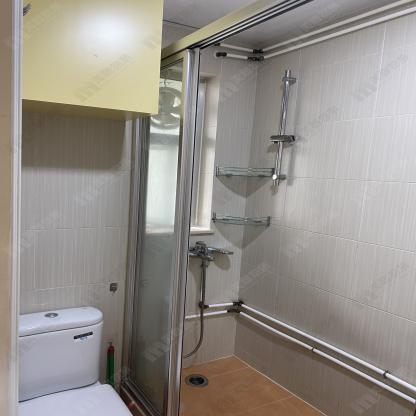Exhaust Fan: (150, 87, 180, 131)
Toilet: (18, 305, 134, 416)
Water Cubicle: (120, 0, 416, 416)
